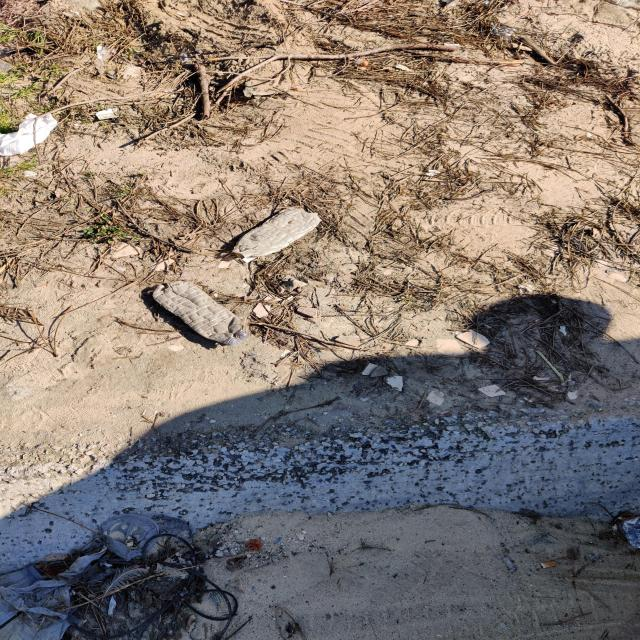litter: (2, 549, 106, 639), (153, 281, 249, 346), (232, 207, 322, 258), (1, 565, 48, 626), (101, 514, 161, 561), (0, 113, 57, 156), (94, 46, 135, 80), (536, 349, 564, 385), (620, 516, 639, 549), (65, 1, 102, 12), (492, 25, 518, 39), (95, 108, 126, 119), (502, 556, 516, 573), (540, 560, 559, 569), (23, 170, 38, 177)
